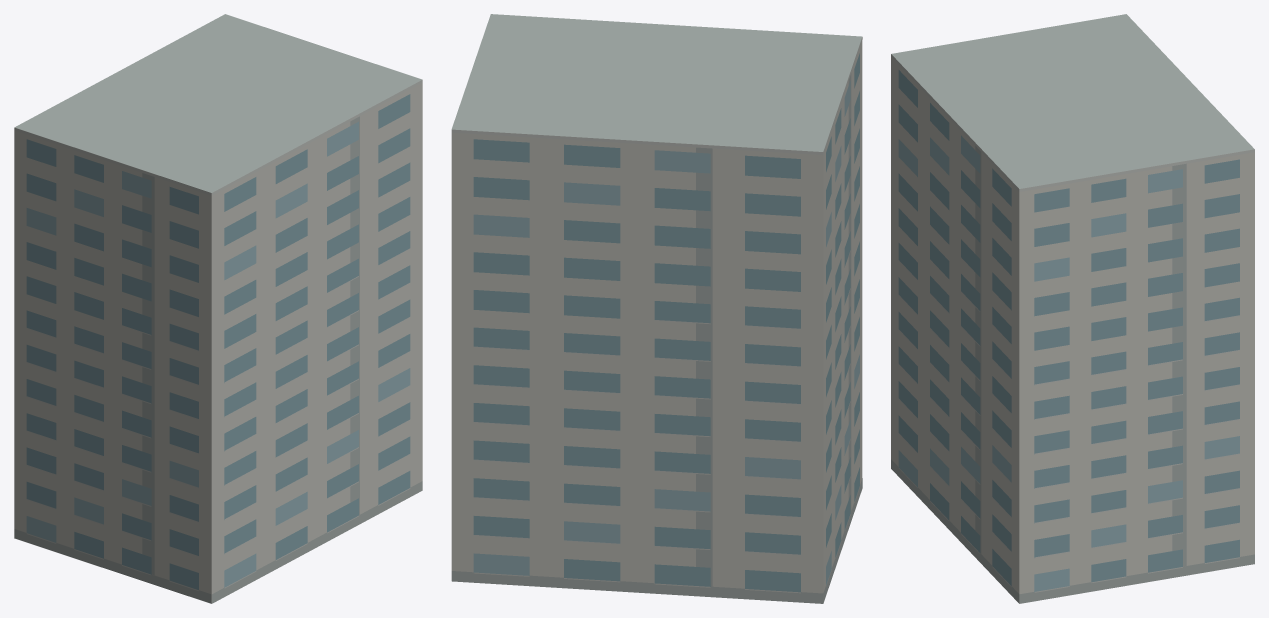
Rendered from residential-0bcef29a-79fe-48c6-bc7e-6e524351eafa.glb.
3 views of the same model, side by side, from view 1: azimuth 30°, elevation 25°; view 2: azimuth 150°, elevation 25°; view 3: azimuth 270°, elevation 25° (orthographic). The views are drawn at different scales.
Parts seen in each view (by area): view 1: residential-0bcef29a-79fe-48c6-bc7e-6e524351eafa.tmp; view 2: residential-0bcef29a-79fe-48c6-bc7e-6e524351eafa.tmp; view 3: residential-0bcef29a-79fe-48c6-bc7e-6e524351eafa.tmp.
Part boxes in pixels (x1,y1,x2,y2): residential-0bcef29a-79fe-48c6-bc7e-6e524351eafa.tmp: (14, 14, 422, 603); residential-0bcef29a-79fe-48c6-bc7e-6e524351eafa.tmp: (451, 14, 862, 603); residential-0bcef29a-79fe-48c6-bc7e-6e524351eafa.tmp: (891, 14, 1254, 603).
Bounding box in the file's own units: 31.69 × 35 × 27.82.
